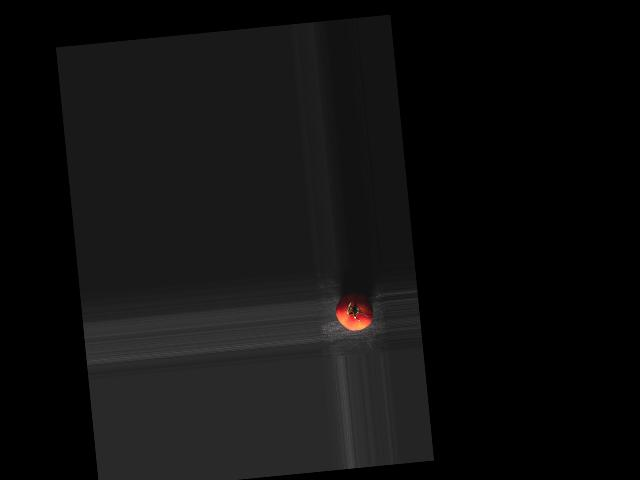tomato: (334, 291, 374, 332)
